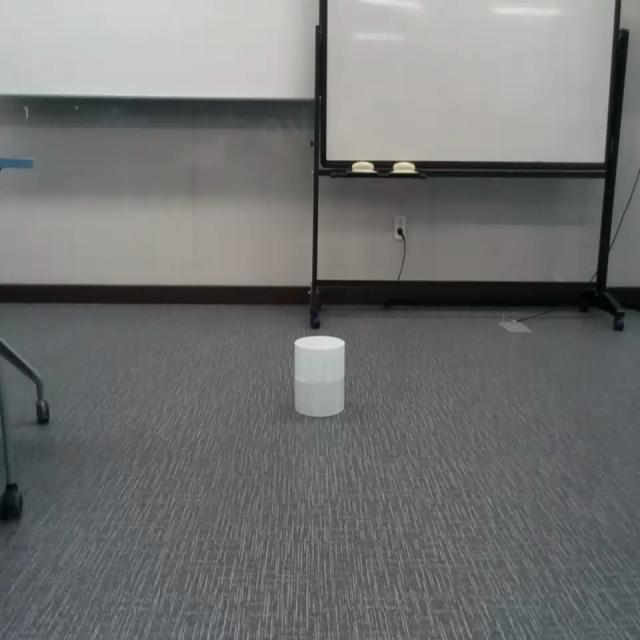cylinder: (293, 336, 346, 418)
